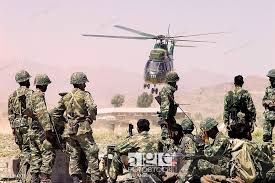uniform: (66, 74, 98, 181), (110, 116, 158, 176), (29, 73, 55, 175), (218, 70, 255, 141), (7, 68, 30, 172), (198, 115, 230, 173), (156, 71, 178, 143), (254, 64, 275, 139), (177, 115, 198, 169)
